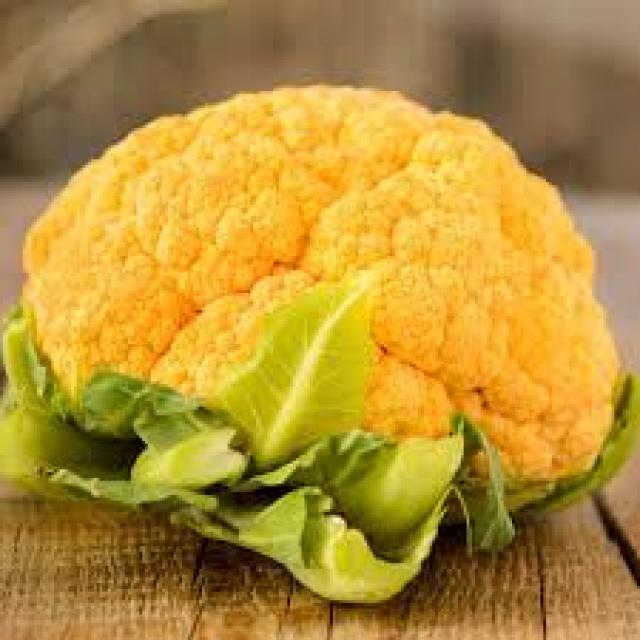organic waste: (0, 83, 637, 600), (17, 74, 617, 506), (0, 296, 637, 609)
